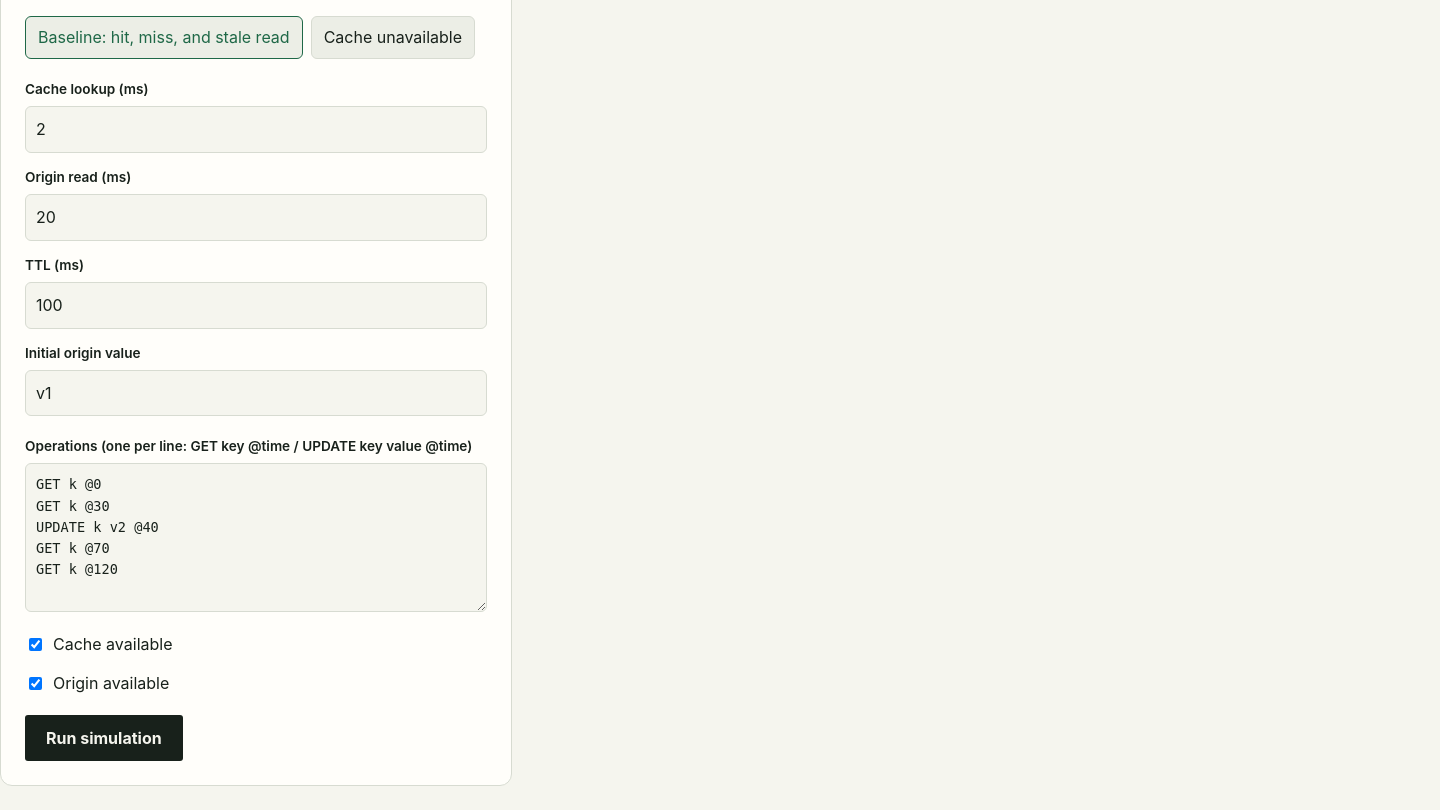
Test: Cache-aside playground › shows a placeholder when a GET returns no value because the origin is down
(page scrolled)
Click the button "Run simulation".
click(104, 738)  # box top-left (25, 715), bottom-right (183, 761)
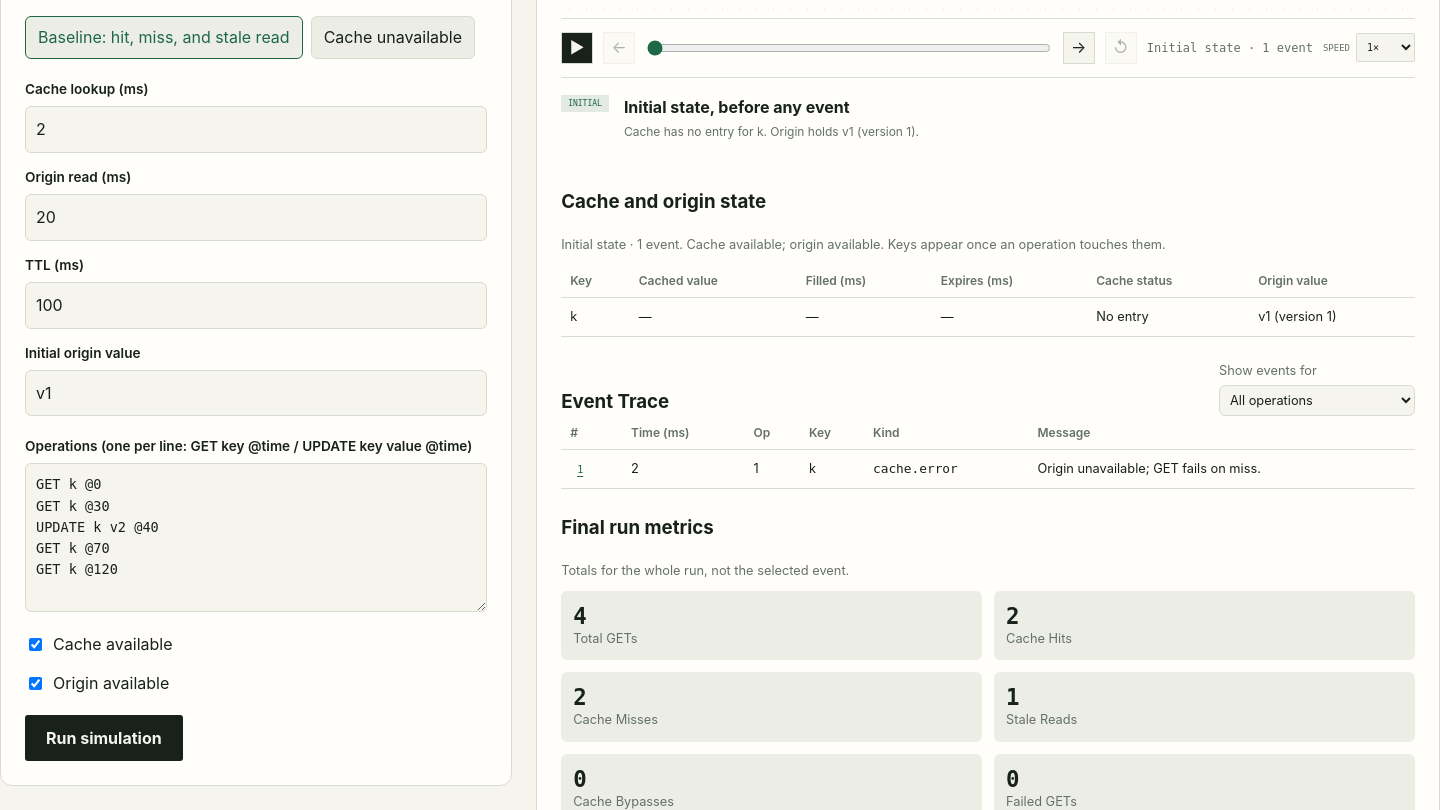
Expected: the text "Origin unavailable; GET fails on miss." is shown, top-left (1028, 450), bottom-right (1415, 488)
